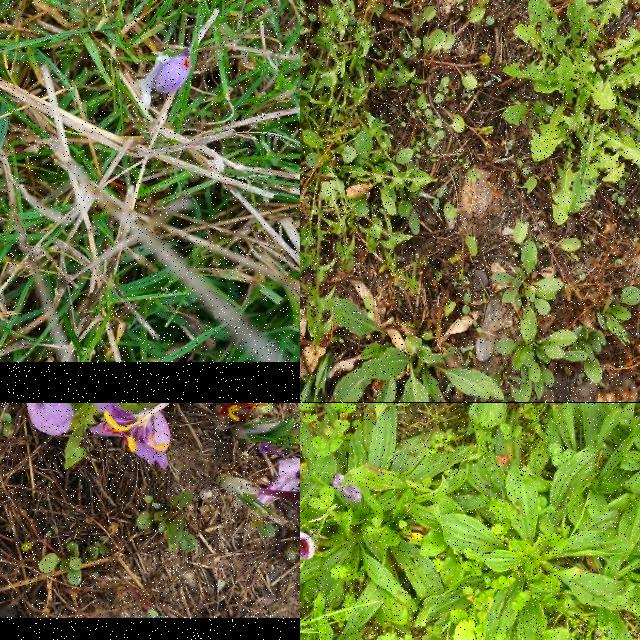flower: (153, 55, 190, 95), (300, 533, 316, 561)
